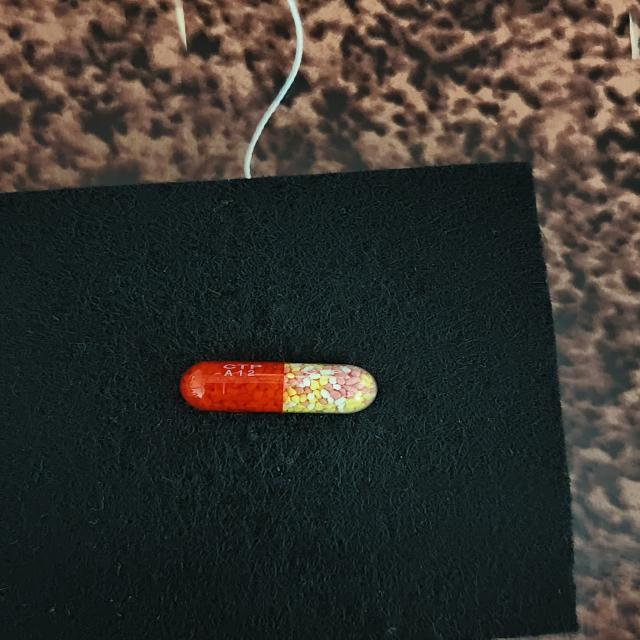Intact Capsule: (180, 361, 377, 413)
